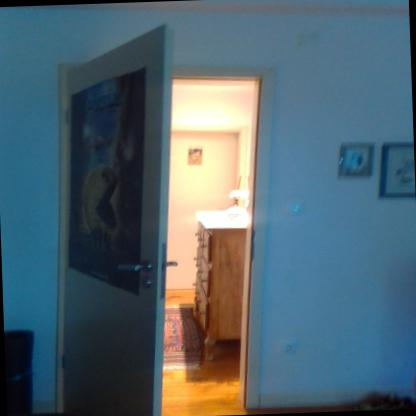semi: (45, 43, 281, 415)
